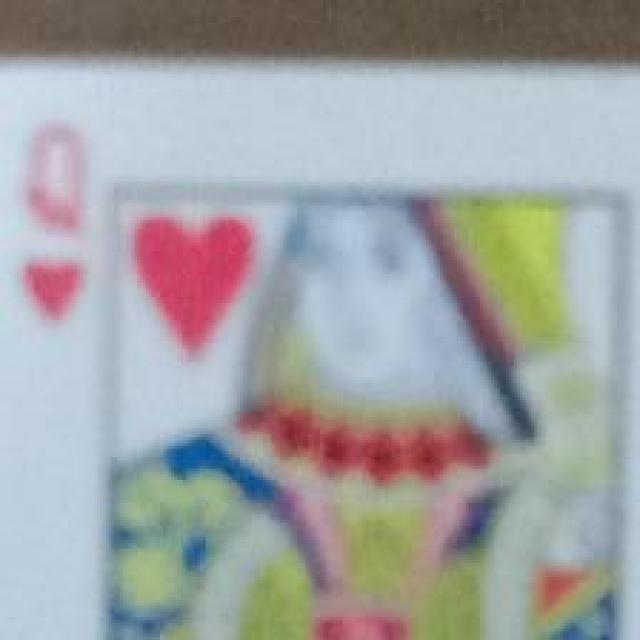Queen of hearts: (0, 63, 640, 640)
